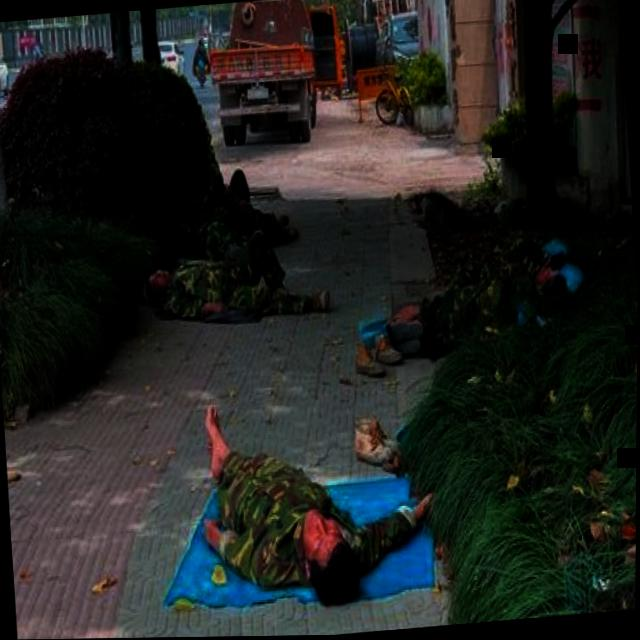Fall-Detected: (358, 229, 612, 370)
